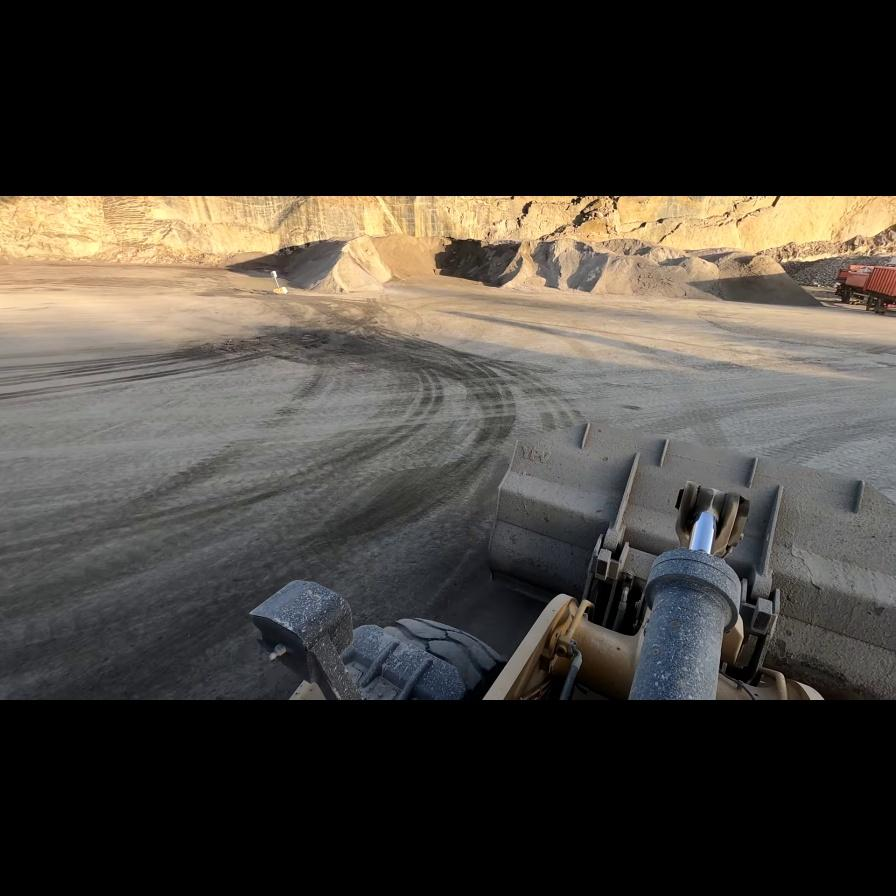anchor: (673, 481, 749, 556)
pile of gravel: (457, 236, 846, 303), (249, 233, 442, 298)
